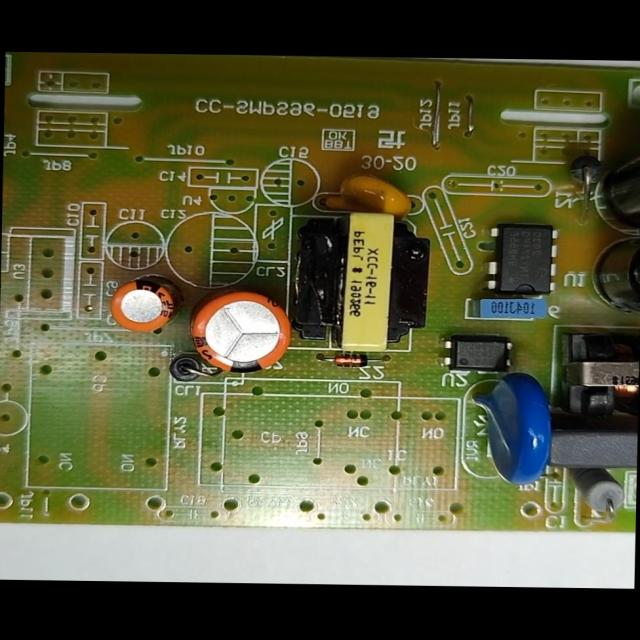Cap1: (188, 293, 294, 372)
Cap2: (106, 278, 176, 335)
Cap3: (591, 232, 639, 317)
Cap4: (598, 129, 640, 220)
MOSFET: (483, 223, 562, 294)
Mov: (470, 369, 553, 486)
Resistor: (566, 468, 626, 515)
Transformer: (292, 209, 433, 353), (558, 323, 639, 425)
